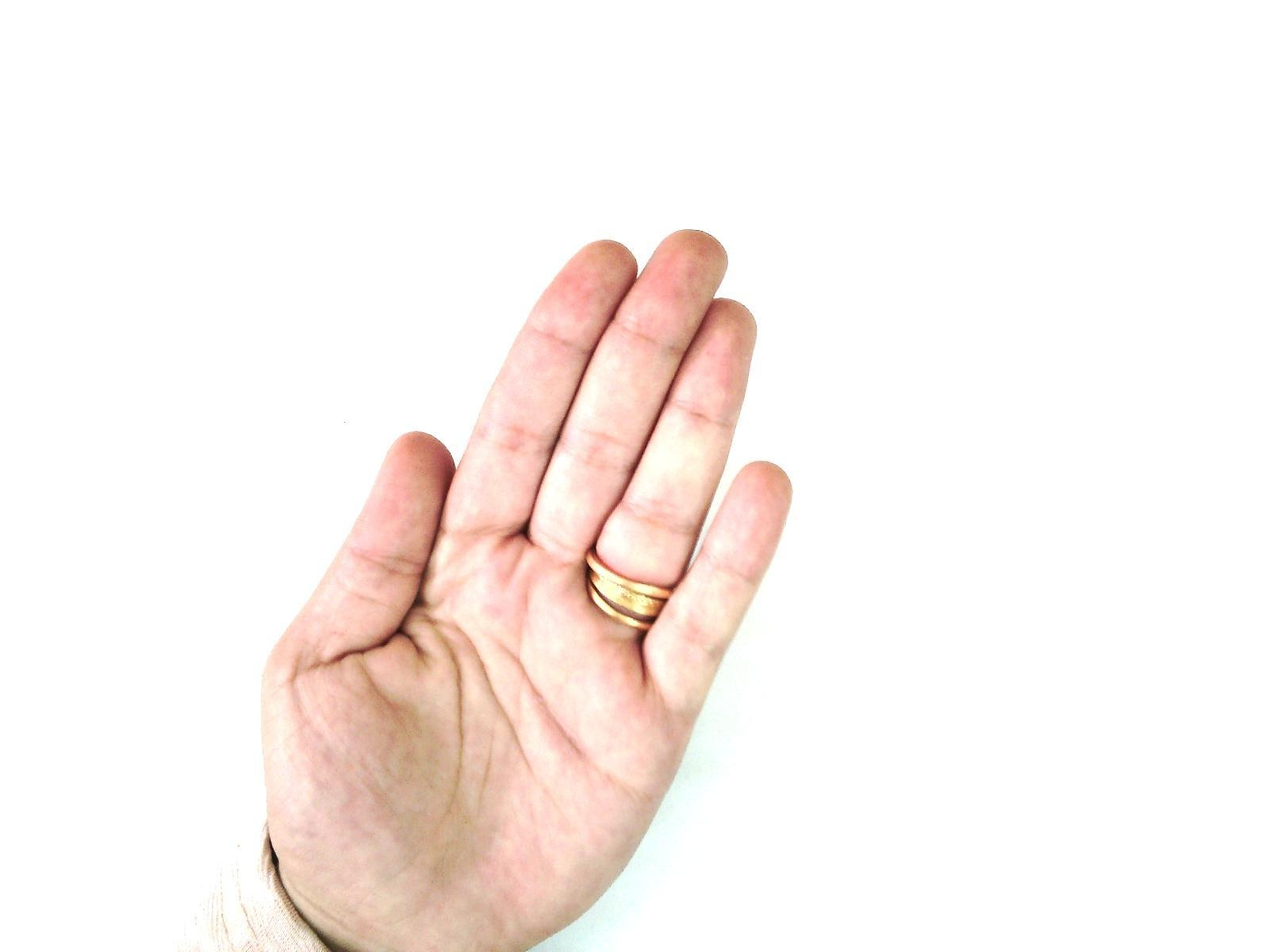open_palm: (256, 228, 796, 951)
